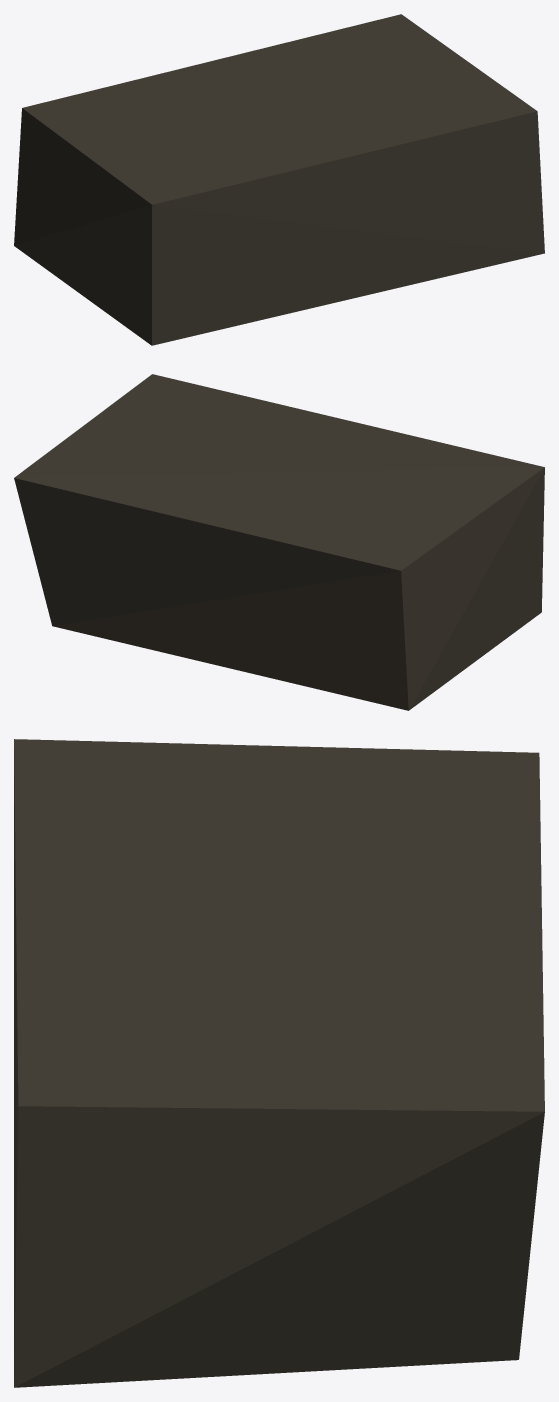
The model's file is Brick_Single_5_LOD.fbx.
The picture shows the model from 3 angles, top to bottom: view 1: azimuth 30°, elevation 25°; view 2: azimuth 150°, elevation 25°; view 3: azimuth 270°, elevation 25°; orthographic projection. The views are drawn at different scales.
Visible parts, largest first — view 1: Group14992; view 2: Group14992; view 3: Group14992.
Part boxes in pixels (x1=…): Group14992: x1=14, y1=14, x2=544, y2=345; Group14992: x1=14, y1=374, x2=544, y2=710; Group14992: x1=14, y1=739, x2=544, y2=1387.
Bounding box in the file's own units: 1.13 × 0.4066 × 0.6846.
